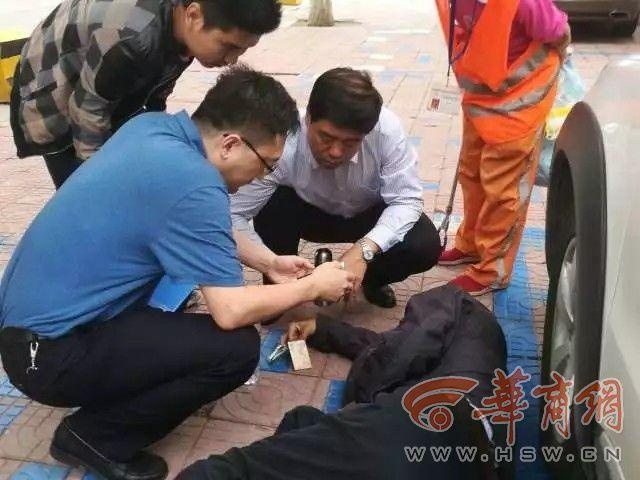falling: (101, 261, 538, 478)
